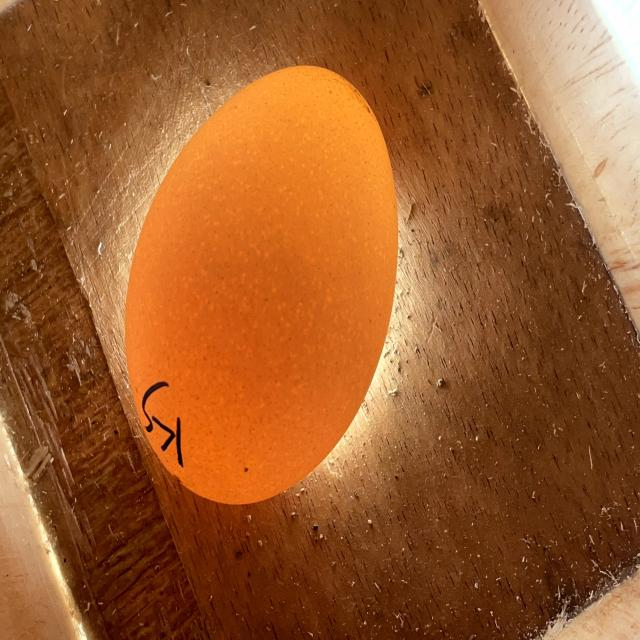infertile: (125, 65, 397, 505)
